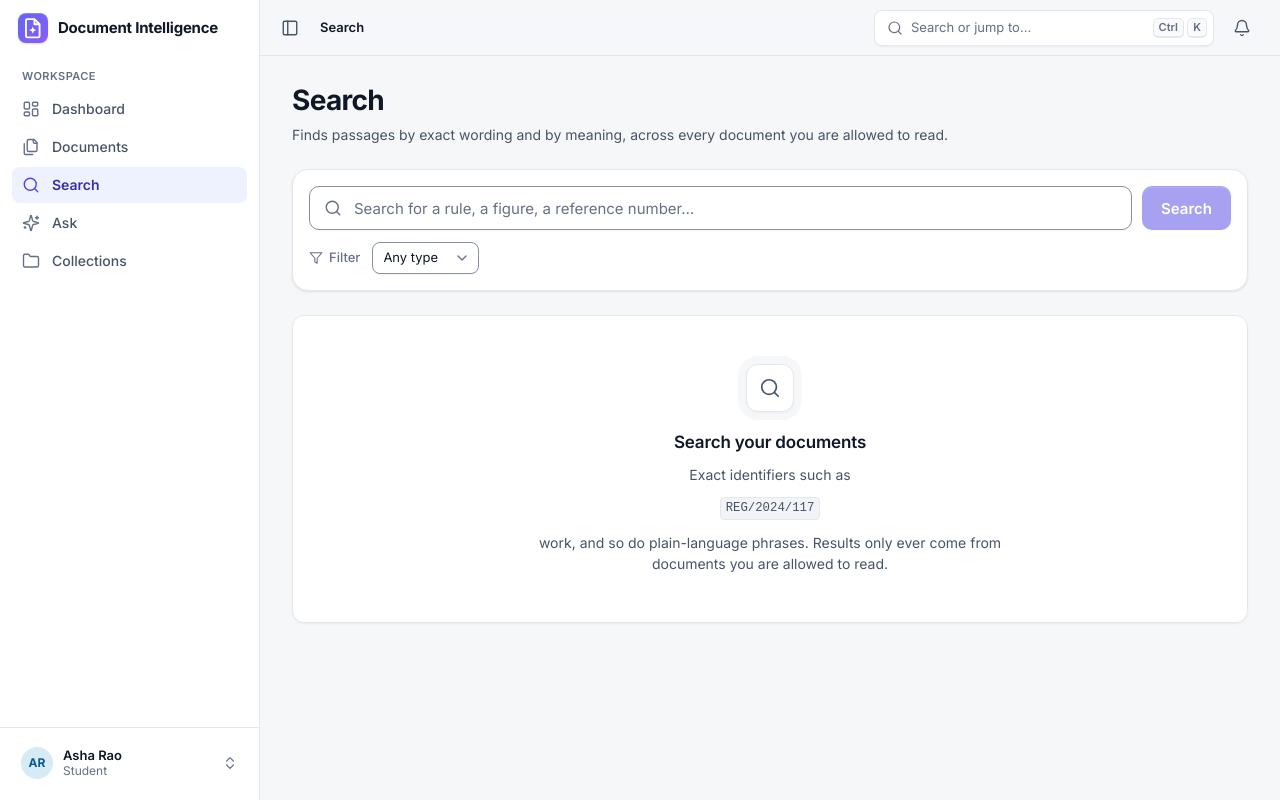
Test: SearchPage › moves focus to the weaker matches when the button asking for them goes away
Type "late fine" into the search field named "Search documents" at (721, 208), box top-left (309, 186), bottom-right (1132, 230)
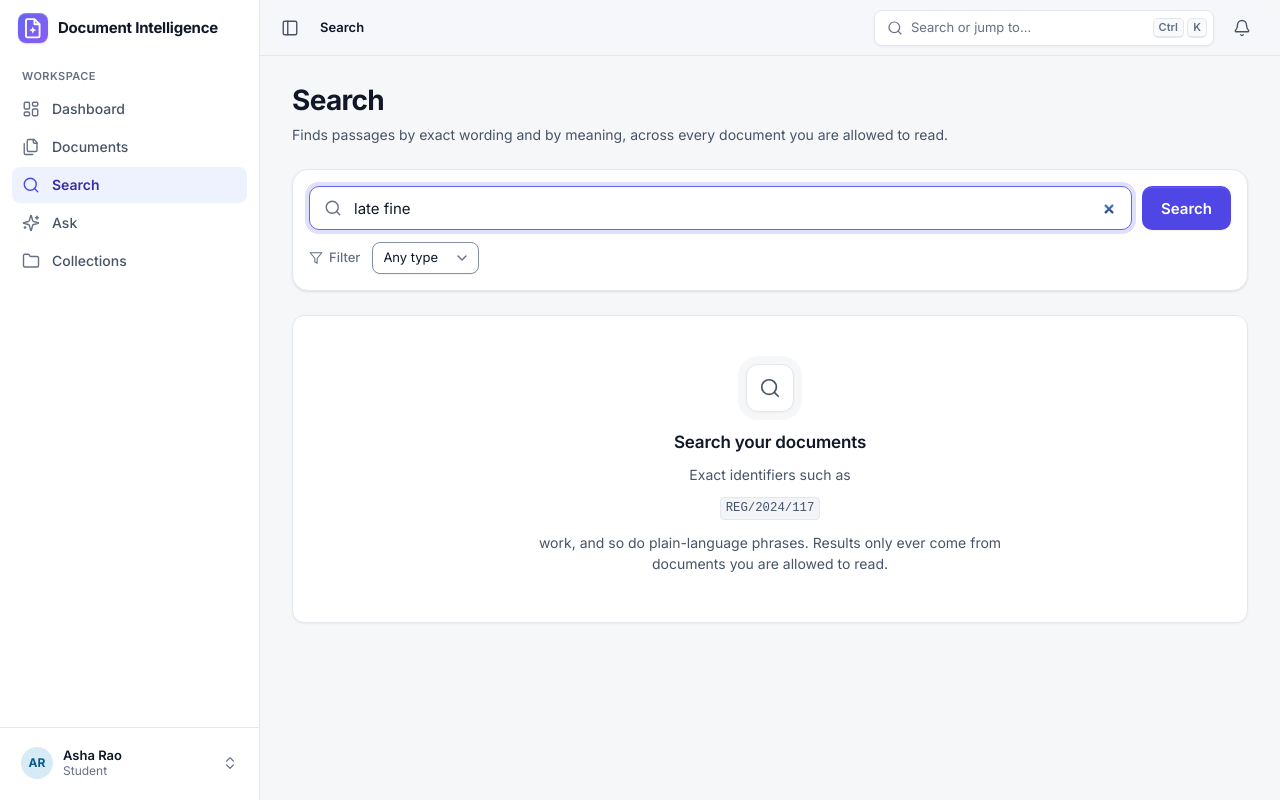
Click the button "Search" at (1187, 208), box top-left (1142, 186), bottom-right (1231, 230)
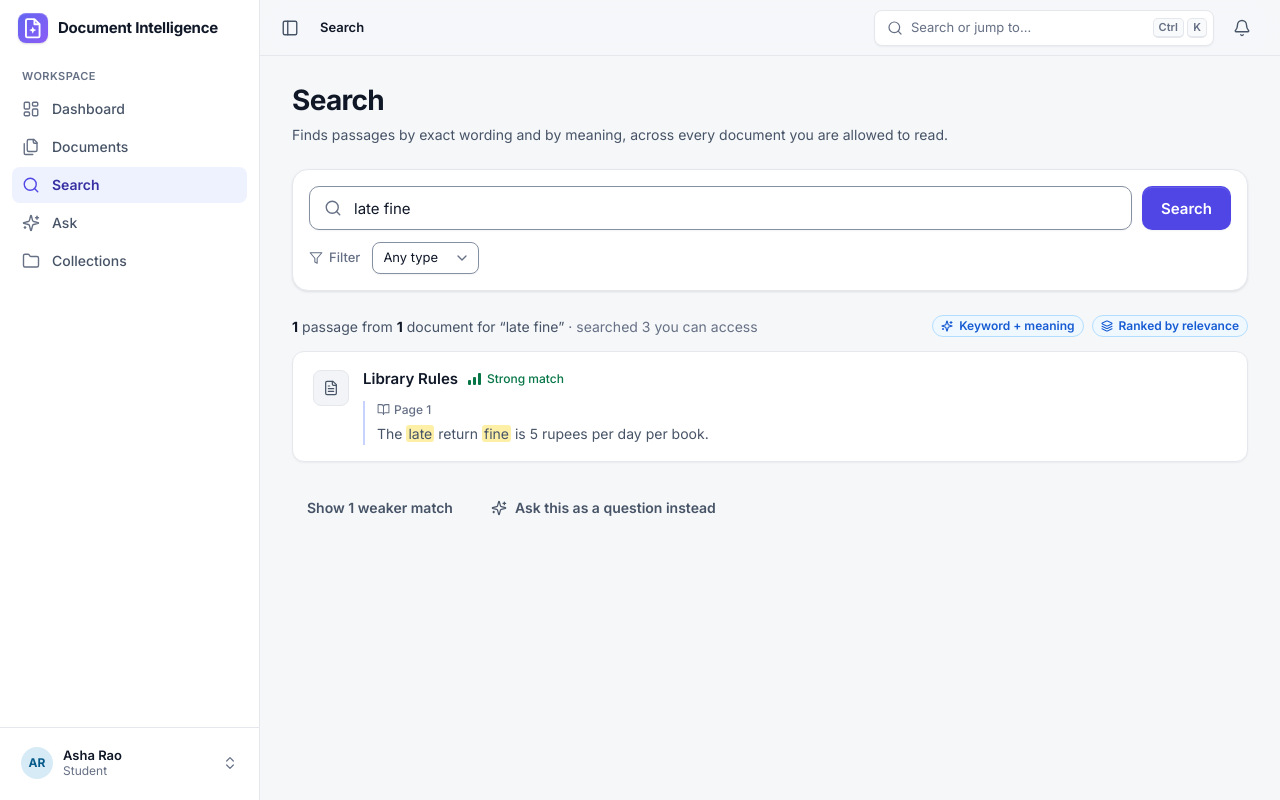
Click the button "Show 1 weaker match" at (380, 508), box top-left (292, 490), bottom-right (468, 526)
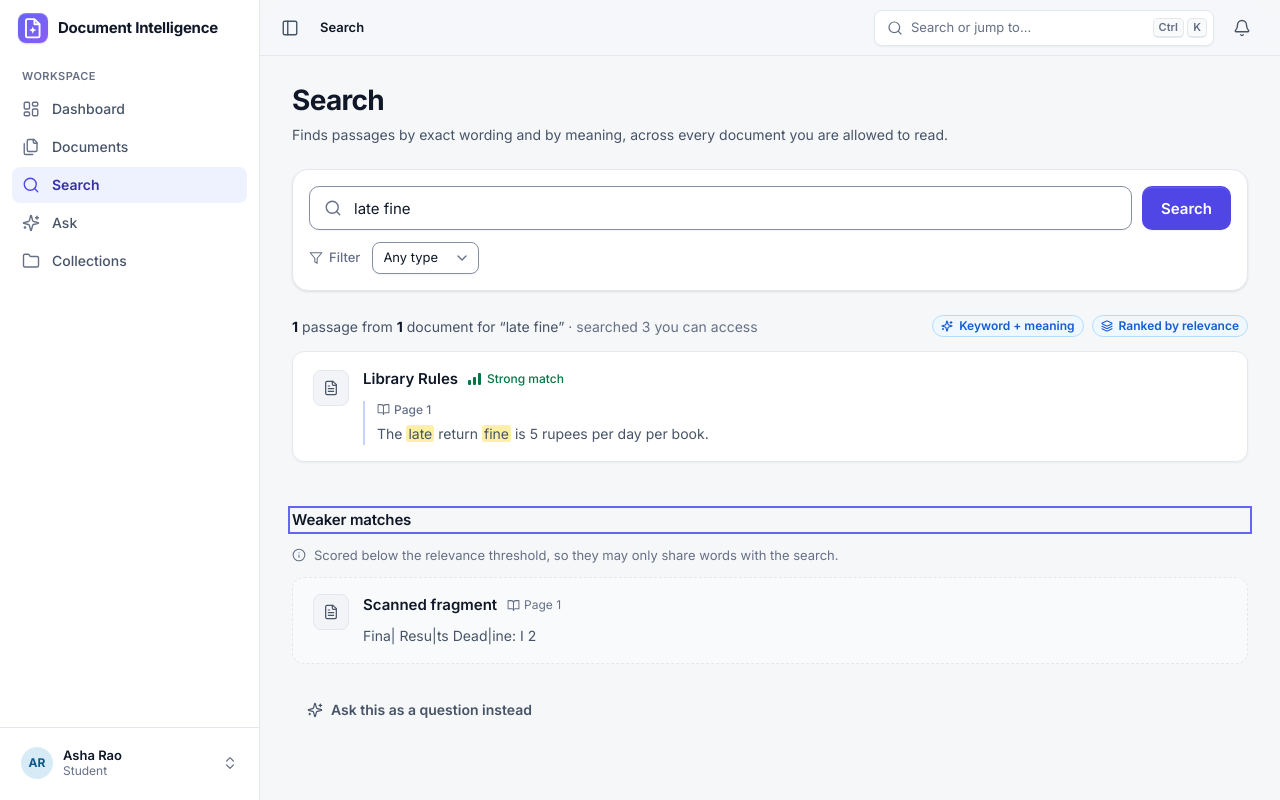
Result: the button "Show 1 weaker match" is gone
